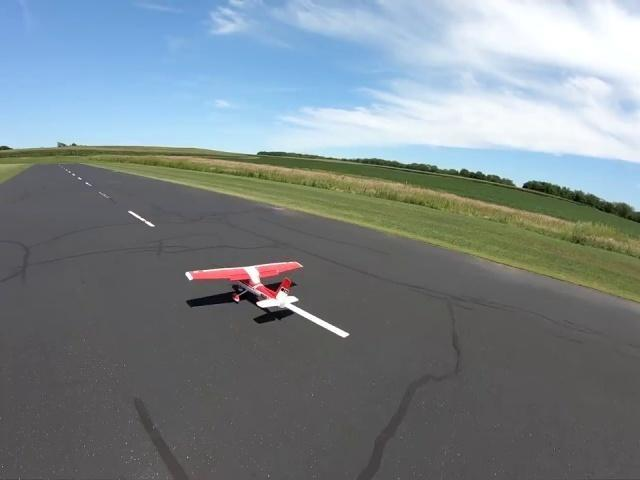Airplane: (185, 262, 303, 310)
